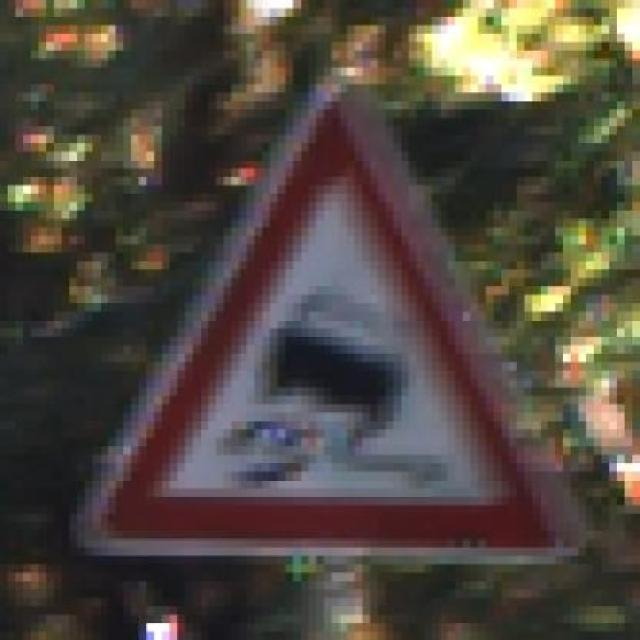Slippery Road Ahead: (69, 67, 586, 573)
